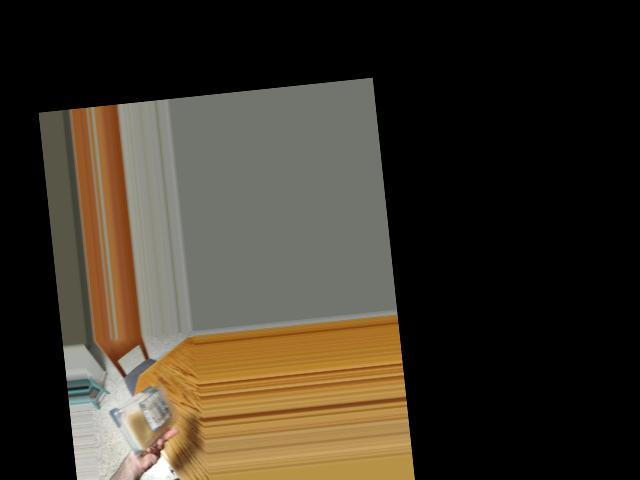cheese: (110, 379, 173, 456)
